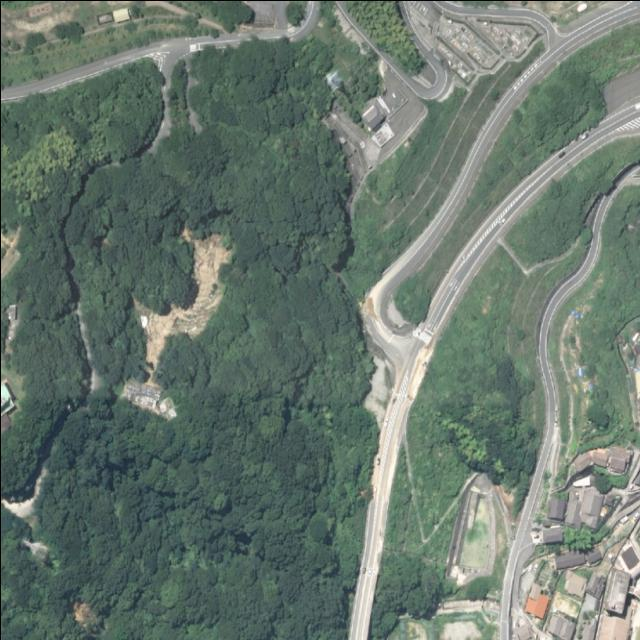landslide: (144, 230, 229, 378)
